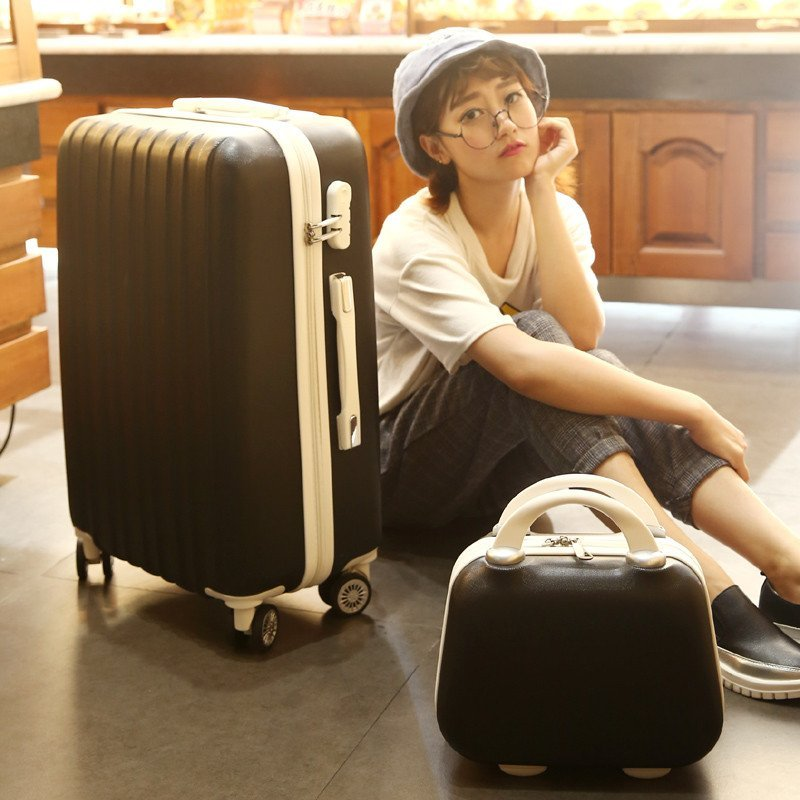box: (57, 107, 380, 602)
handle: (327, 271, 366, 450), (171, 94, 293, 123)
lock: (312, 180, 352, 249)
wheel: (318, 569, 372, 617), (234, 602, 281, 653), (75, 539, 114, 581)
